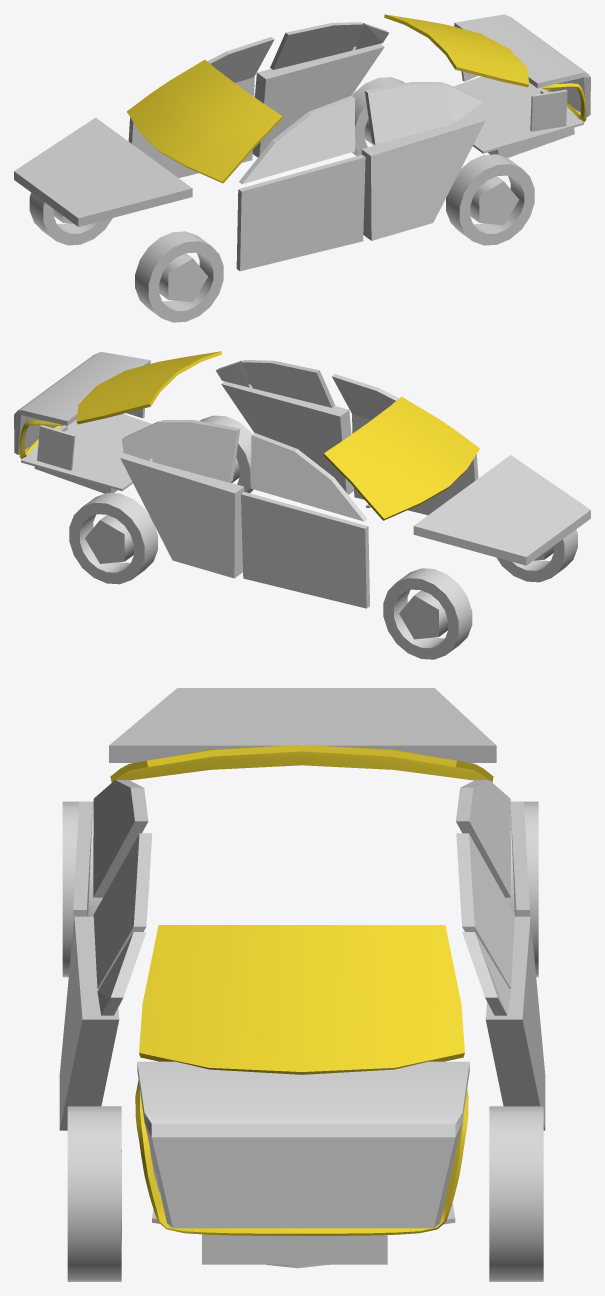
3 renders of one model, top to bottom at view 1: azimuth 30°, elevation 25°; view 2: azimuth 150°, elevation 25°; view 3: azimuth 270°, elevation 25°, orthographic. The views are drawn at different scales.
Visible parts, largest first — view 1: fj_bl_zq, fj_lt_zh, zqm, fdjg, fj_bl_Q, zhm, yhm, hbxg, fj_hbx_dt, fj_bl_h, fj_scp_zq, yg_3jc (+4 smaller); view 2: fj_bl_zq, fj_lt_zh, yqm, fdjg, fj_bl_Q, yhm, zhm, hbxg, fj_hbx_dt, fj_bl_h, fj_scp_zq, yg_3jc (+4 smaller); view 3: hbxg, fj_bl_h, fj_lt_zh, fdjg, fj_bl_zq, zhm, fj_bl_Q, yhm, fj_hbx_btc, fj_hbx_mft, yg_3jc, zqm (+1 smaller).
Part boxes in pixels (box(x1,y1,x2,y2)): fj_bl_zq: box(207, 22, 452, 184); fj_lt_zh: box(29, 77, 534, 322); zqm: box(236, 155, 365, 271); fdjg: box(14, 117, 192, 226); fj_bl_Q: box(126, 59, 283, 183); zhm: box(361, 116, 485, 240); yhm: box(252, 43, 384, 157); hbxg: box(454, 14, 590, 117); fj_hbx_dt: box(451, 76, 583, 153); fj_bl_h: box(384, 14, 529, 87); fj_scp_zq: box(53, 118, 519, 302); yg_3jc: box(353, 23, 482, 123); fj_bl_zq: box(152, 360, 398, 521); fj_lt_zh: box(69, 415, 577, 659); yqm: box(241, 492, 369, 608); fdjg: box(413, 455, 590, 565); fj_bl_Q: box(323, 396, 479, 520); yhm: box(120, 454, 244, 578); zhm: box(221, 381, 353, 494); hbxg: box(14, 352, 150, 454); fj_hbx_dt: box(21, 414, 151, 491); fj_bl_h: box(76, 351, 221, 424); fj_scp_zq: box(85, 458, 553, 639); yg_3jc: box(122, 360, 251, 460); hbxg: box(137, 1061, 469, 1228); fj_bl_h: box(139, 925, 464, 1074); fj_lt_zh: box(62, 801, 543, 1281); fdjg: box(109, 688, 496, 762); fj_bl_zq: box(93, 780, 514, 988); zhm: box(59, 916, 119, 1130); fj_bl_Q: box(110, 745, 493, 782); yhm: box(485, 916, 545, 1130); fj_hbx_btc: box(202, 1234, 387, 1264); fj_hbx_mft: box(135, 1080, 468, 1235); yg_3jc: box(97, 932, 510, 1015); zqm: box(73, 802, 92, 925).
Size of the model in its own units: 171 by 70.43 by 54.27.
